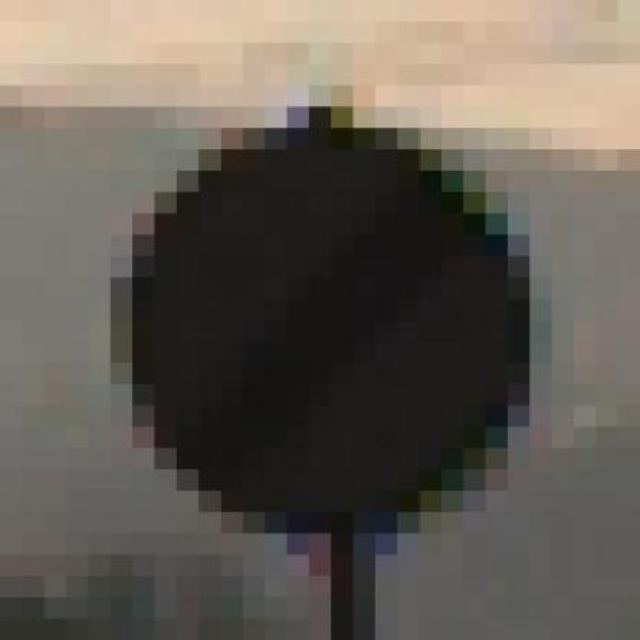End of all speed and passing limits: (66, 63, 552, 554)
